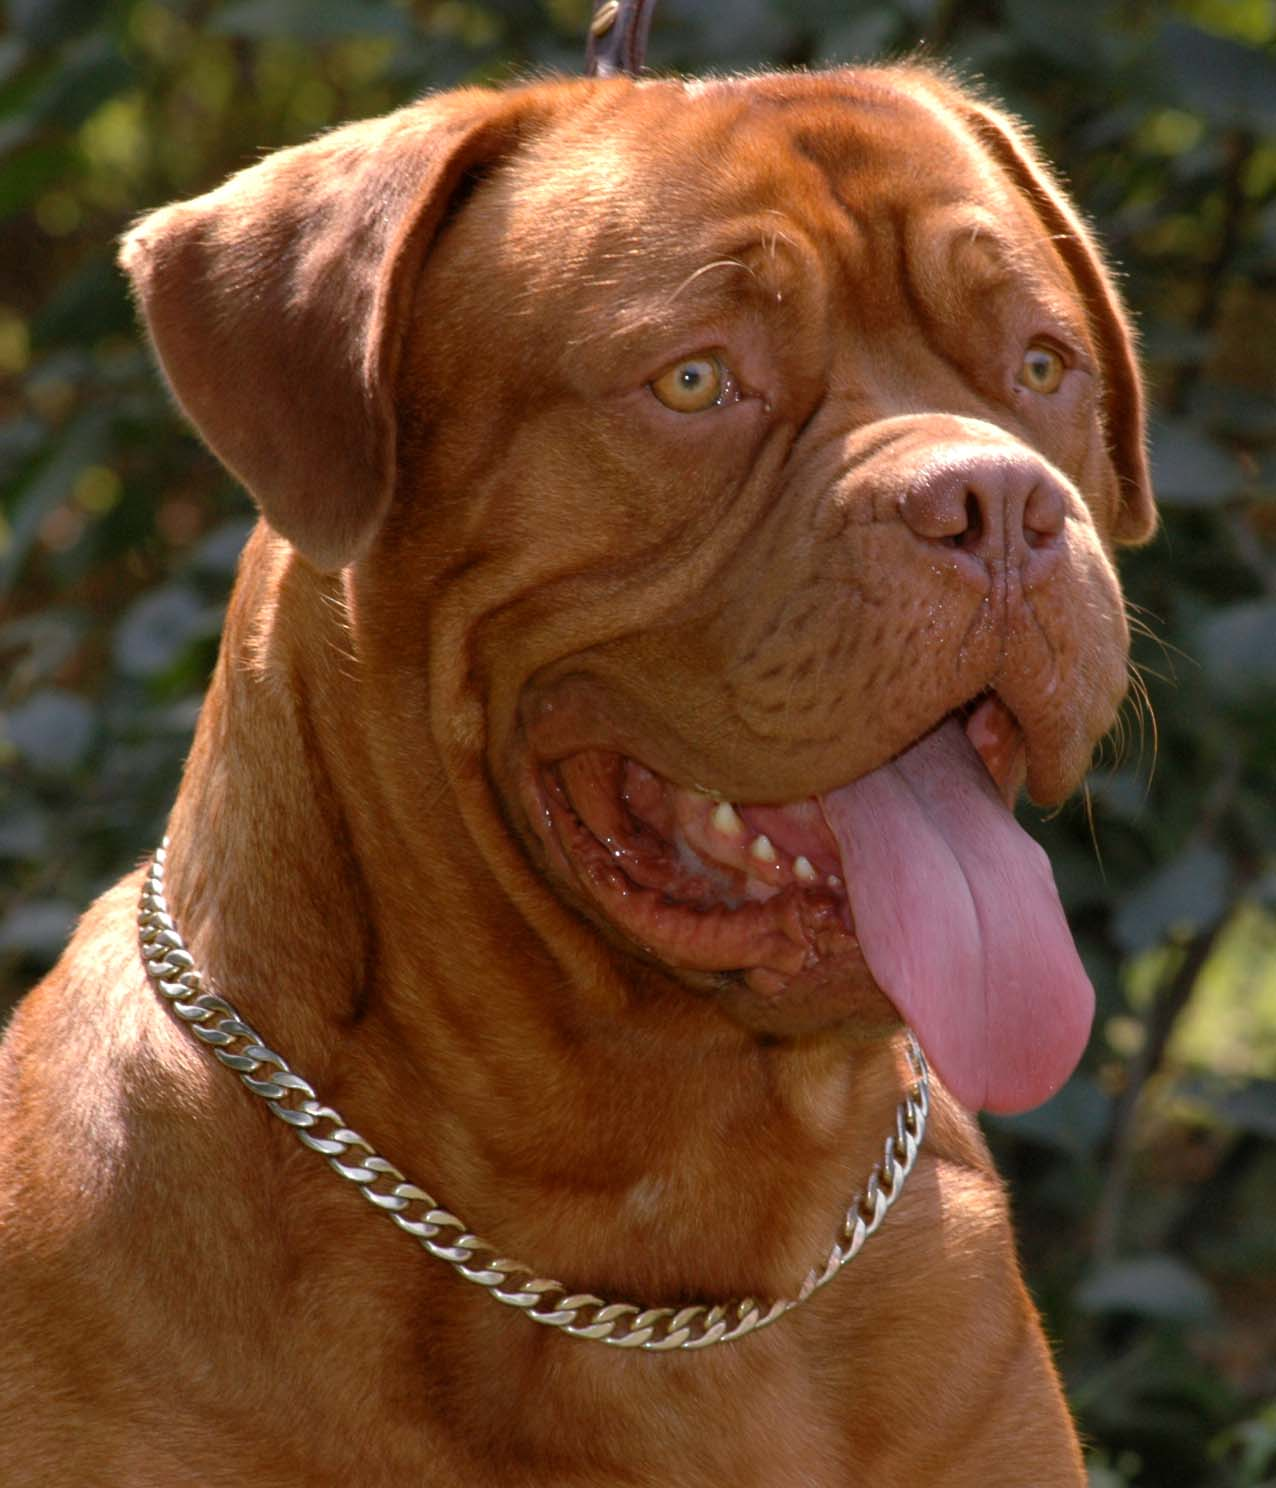dogue_de_bordeaux: (1, 61, 1156, 1488)
